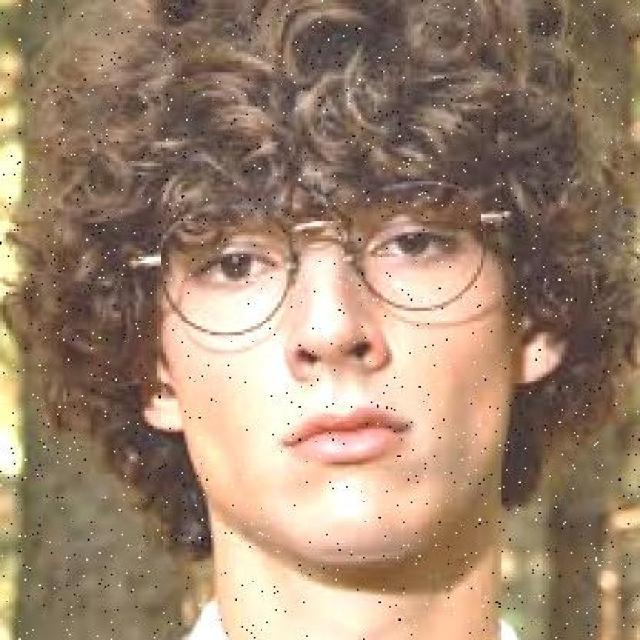mask: (136, 175, 495, 332)
